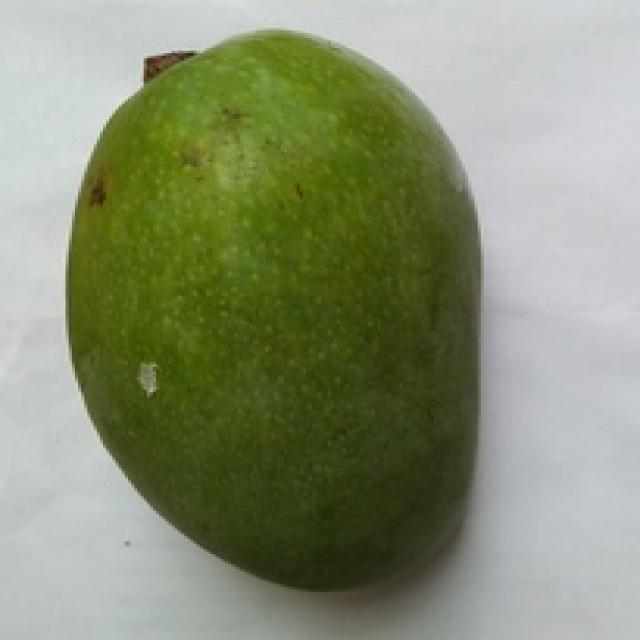Mango: (66, 30, 478, 589)
